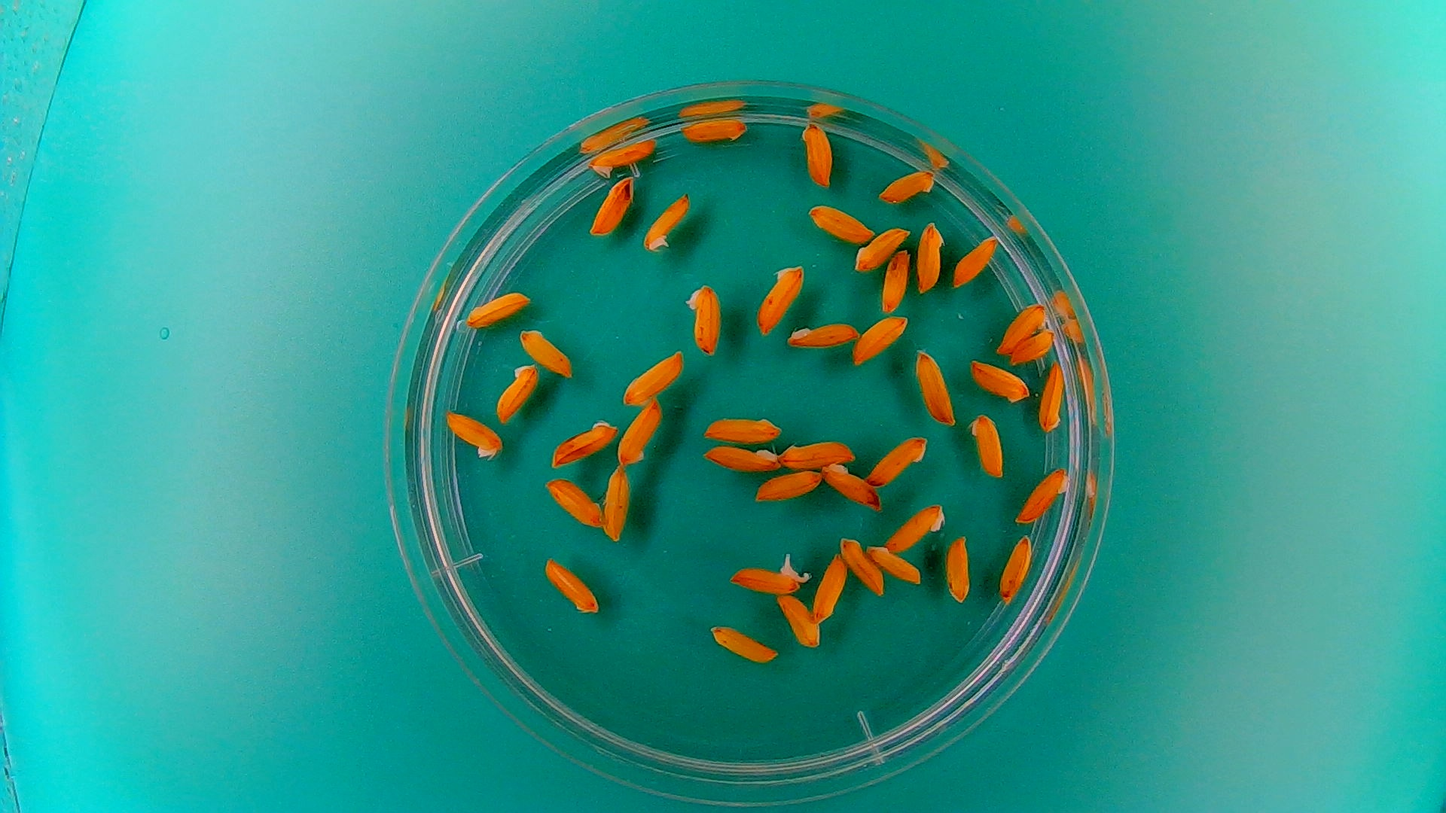no: (962, 348, 1033, 410), (752, 261, 805, 336), (621, 347, 686, 407), (548, 415, 621, 468), (542, 553, 602, 614), (913, 347, 958, 428), (1014, 464, 1072, 525), (882, 500, 947, 553), (850, 312, 911, 367), (866, 433, 929, 486), (616, 396, 663, 467), (442, 408, 504, 461), (819, 460, 883, 511), (683, 280, 725, 357), (543, 477, 604, 529), (586, 134, 658, 177), (837, 533, 885, 597), (708, 622, 779, 665), (493, 361, 540, 425), (464, 287, 533, 330), (518, 327, 575, 379), (589, 175, 636, 238), (811, 548, 850, 623), (701, 408, 784, 443), (805, 201, 875, 242), (996, 299, 1048, 354), (996, 532, 1035, 605), (950, 232, 999, 288), (699, 440, 782, 473), (853, 224, 911, 271), (779, 435, 859, 469), (599, 464, 633, 544), (967, 410, 1005, 479), (865, 542, 924, 586), (776, 593, 821, 650), (754, 467, 824, 503), (799, 119, 834, 189), (785, 318, 859, 349), (914, 218, 944, 294), (876, 166, 936, 204), (943, 531, 974, 604), (880, 245, 913, 313), (1037, 357, 1066, 433), (679, 114, 749, 142), (1009, 326, 1057, 364)
yes: (727, 553, 805, 595), (641, 190, 692, 252)
